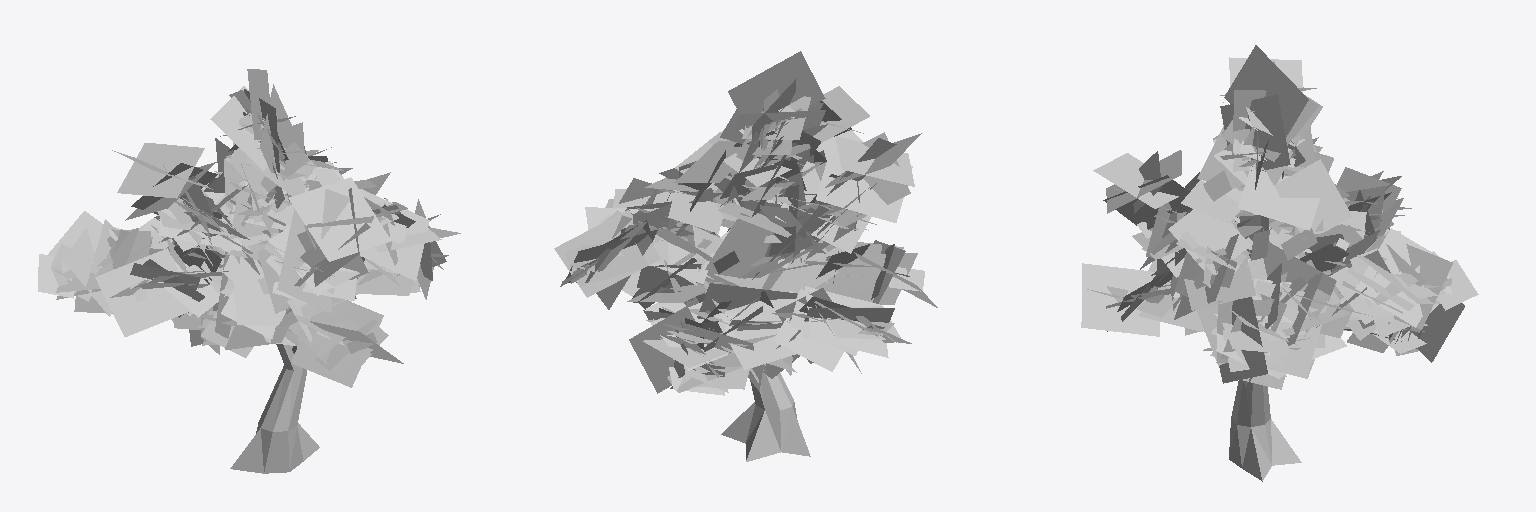
File: tree1.obj
The picture shows the model from 3 angles: view 1: azimuth 30°, elevation 25°; view 2: azimuth 150°, elevation 25°; view 3: azimuth 270°, elevation 25°; orthographic projection.
Parts seen in each view (by area): view 1: Circle; view 2: Circle; view 3: Circle.
Boxes of the visible parts, <box> form: Circle: <box>38,69,460,473</box>; Circle: <box>554,51,937,461</box>; Circle: <box>1081,45,1478,481</box>.
Bounding box in the file's own units: 1.75 × 1.84 × 1.65.